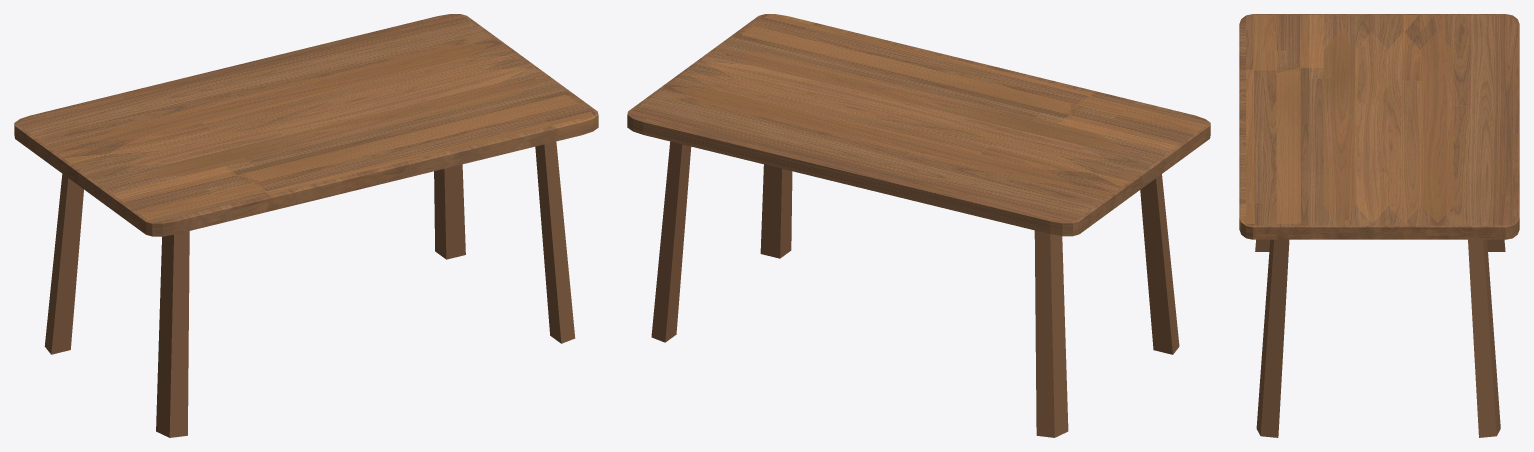
The model's file is koksbord.glb.
3 renders of one model, left to right at view 1: azimuth 30°, elevation 25°; view 2: azimuth 150°, elevation 25°; view 3: azimuth 270°, elevation 25°, orthographic. The views are drawn at different scales.
Visible parts, largest first — view 1: mesh_id5, mesh_id6; view 2: mesh_id5, mesh_id6; view 3: mesh_id5, mesh_id6.
Boxes of the visible parts, x1=… form: mesh_id5: x1=14, y1=14, x2=598, y2=236; mesh_id6: x1=44, y1=141, x2=575, y2=437; mesh_id5: x1=627, y1=14, x2=1210, y2=236; mesh_id6: x1=651, y1=141, x2=1179, y2=437; mesh_id5: x1=1239, y1=14, x2=1519, y2=239; mesh_id6: x1=1255, y1=239, x2=1505, y2=437.
Size of the model in its own units: 0.512 by 0.2444 by 0.2844.
2 materials, 2 textured.
